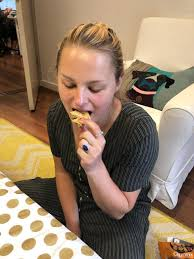eating: (42, 23, 143, 185)
